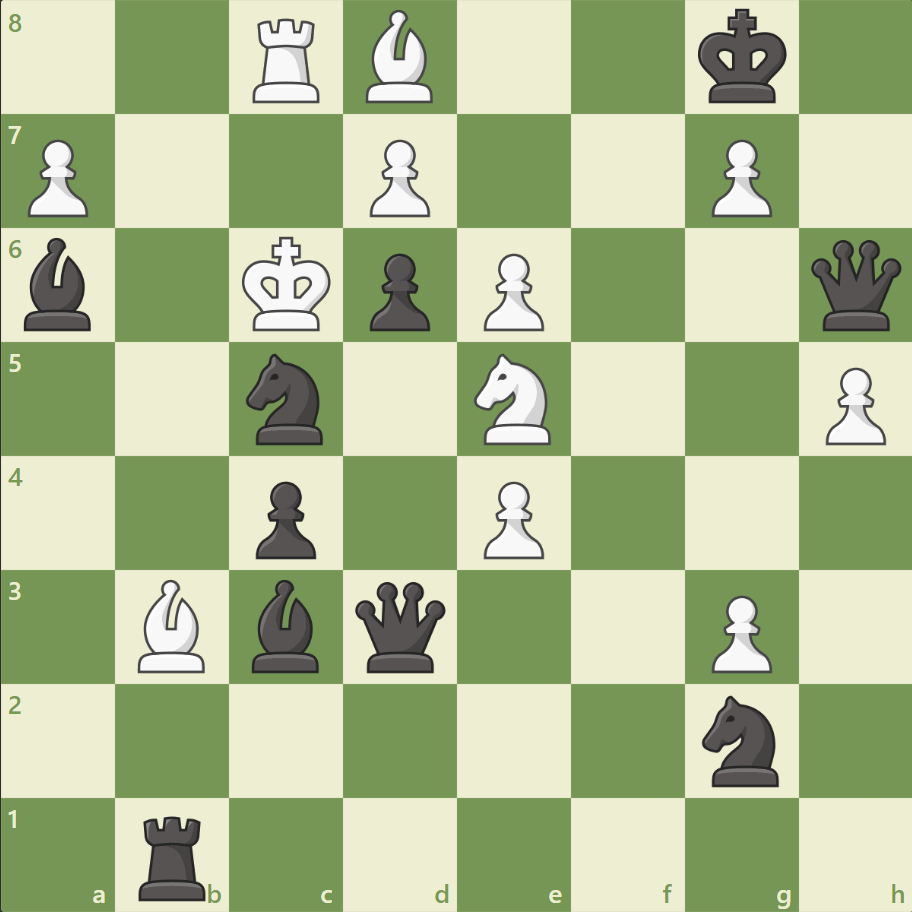B: (358, 6, 442, 109), (131, 574, 215, 676)
K: (238, 231, 338, 339)
N: (465, 348, 562, 450)
P: (20, 132, 95, 223), (701, 132, 776, 223), (474, 246, 549, 337), (474, 473, 549, 564), (701, 586, 776, 677), (361, 132, 435, 223), (815, 359, 889, 450)
R: (246, 12, 329, 109)
b: (17, 233, 101, 336), (244, 574, 328, 676)
k: (692, 4, 792, 112)
n: (692, 688, 789, 791), (238, 348, 335, 450)
p: (247, 473, 322, 564), (361, 246, 435, 337)
q: (351, 576, 450, 676), (805, 236, 904, 335)
r: (133, 806, 215, 904)
